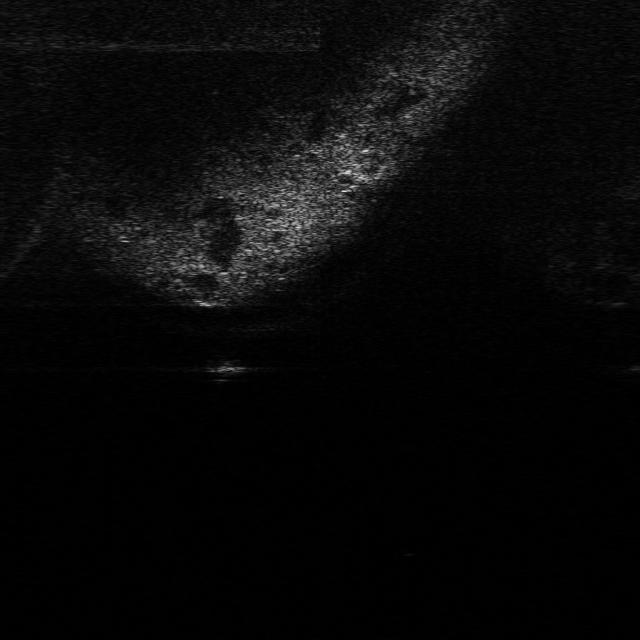cube: (197, 351, 249, 384)
